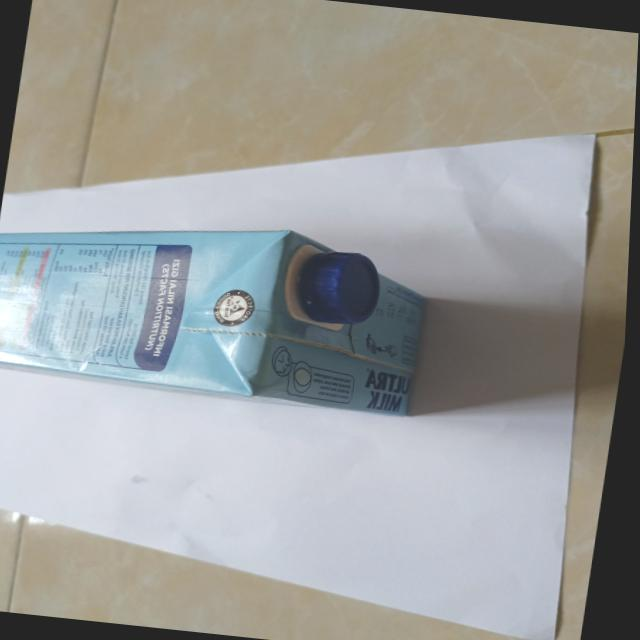indomie-mie-kocok-bandung: (0, 198, 445, 419)
